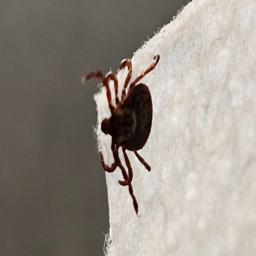Dermacentor variabilis: (84, 53, 160, 215)
